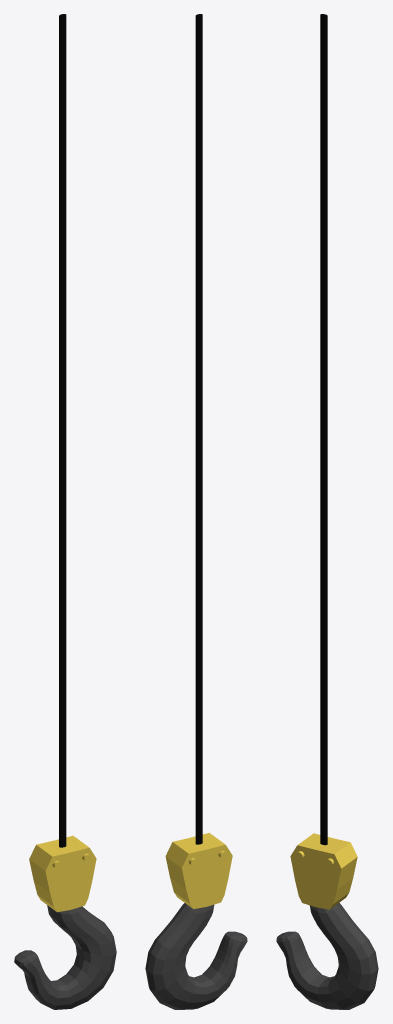
File: hookcolor 1.fbx
3 renders of one model, left to right at view 1: azimuth 30°, elevation 25°; view 2: azimuth 210°, elevation 25°; view 3: azimuth 330°, elevation 25°, orthographic.
Parts seen in each view (by area): view 1: Cylinder.001, Cube, Cube.001; view 2: Cylinder.001, Cube, Cube.001; view 3: Cylinder.001, Cube, Cube.001.
Boxes of the visible parts, box(x1,y1,x2,y2) form: Cylinder.001: box(59, 14, 66, 847); Cube: box(14, 905, 116, 1009); Cube.001: box(29, 835, 96, 912); Cylinder.001: box(195, 14, 202, 844); Cube: box(145, 903, 247, 1009); Cube.001: box(165, 833, 232, 908); Cylinder.001: box(320, 14, 327, 845); Cube: box(276, 902, 378, 1009); Cube.001: box(290, 833, 357, 909).
Size of the model in its own units: 172 by 1663 by 61.15.
